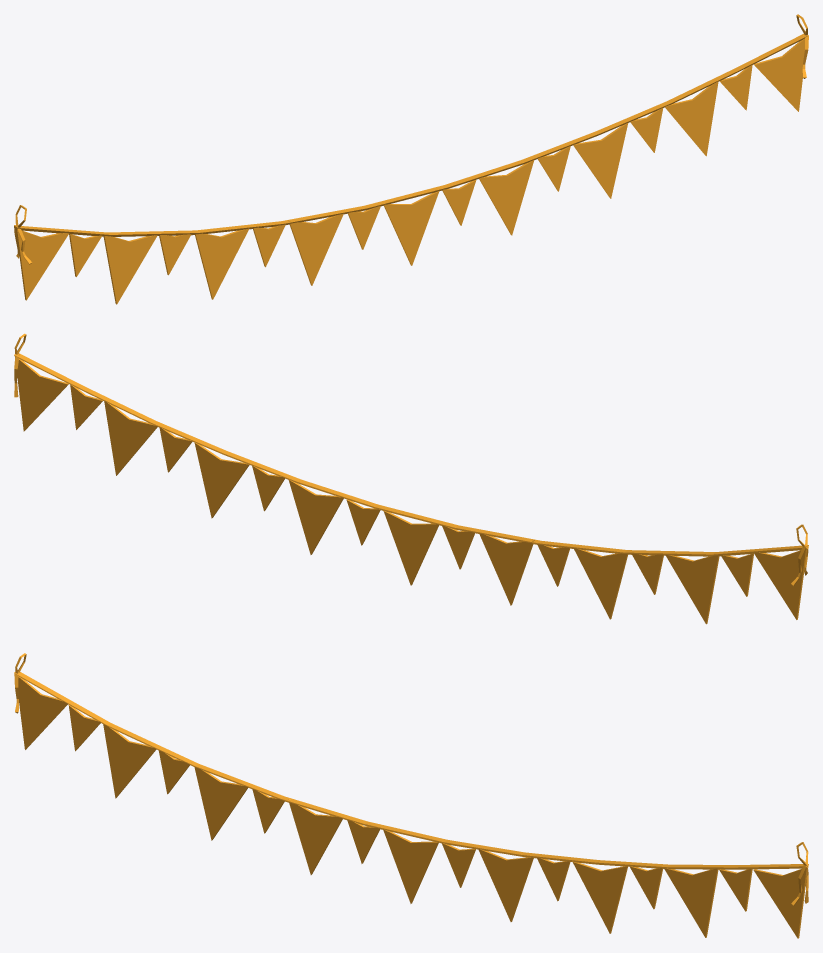
The model's file is SM_Garland_Triangles_3m_4july.fbx.
The picture shows the model from 3 angles, top to bottom: view 1: azimuth 30°, elevation 25°; view 2: azimuth 150°, elevation 25°; view 3: azimuth 330°, elevation 25°; orthographic projection.
Parts seen in each view (by area): view 1: garland-triangles-3m-4july; view 2: garland-triangles-3m-4july; view 3: garland-triangles-3m-4july.
Part boxes in pixels (<box>): garland-triangles-3m-4july: <box>14,14,808,304</box>; garland-triangles-3m-4july: <box>14,333,808,624</box>; garland-triangles-3m-4july: <box>14,653,808,938</box>.
Size of the model in its own units: 3 by 0.5607 by 0.092.
